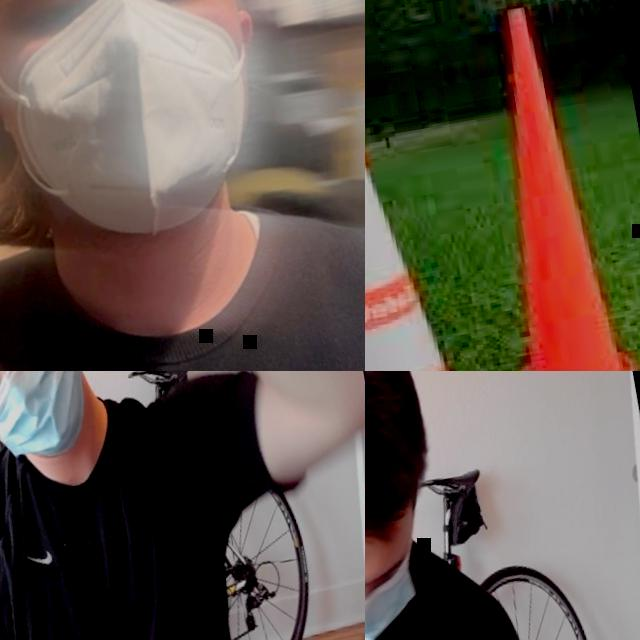mask: (0, 0, 274, 253), (0, 371, 97, 466), (365, 540, 428, 640)
no_helmet: (365, 371, 449, 542)
no_vest: (0, 191, 365, 371), (0, 411, 242, 640), (365, 523, 528, 640)
person: (0, 0, 365, 371), (0, 371, 290, 640), (365, 371, 572, 640)
safety_cone: (461, 0, 634, 371), (365, 0, 533, 371)
